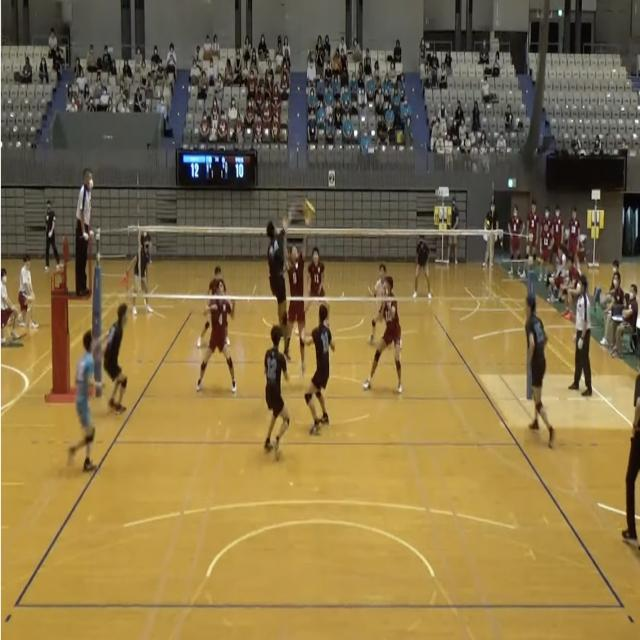spike: (264, 199, 302, 365)
